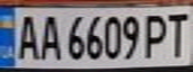0: (103, 12, 124, 61)
6: (84, 11, 106, 61), (63, 11, 84, 61)
9: (121, 11, 142, 60)
A: (12, 10, 42, 61), (36, 11, 63, 61)
P: (142, 10, 172, 60)
T: (163, 8, 193, 59)
